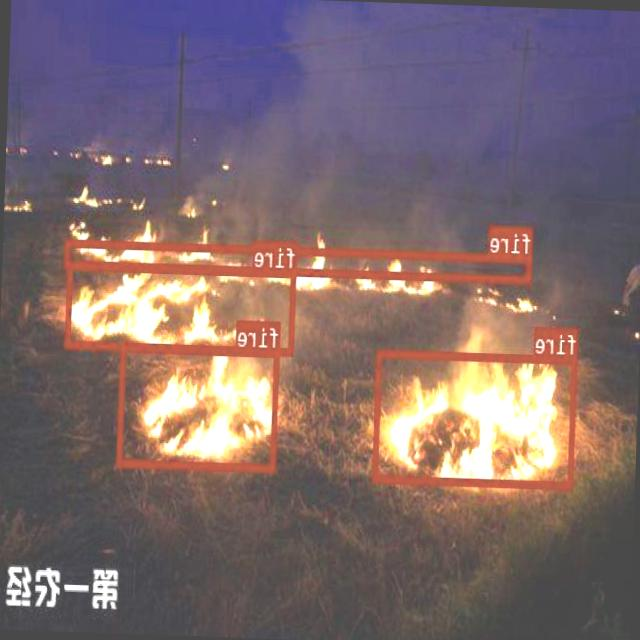fire: (372, 348, 578, 488), (66, 260, 297, 353), (118, 343, 280, 470), (65, 238, 532, 282)
